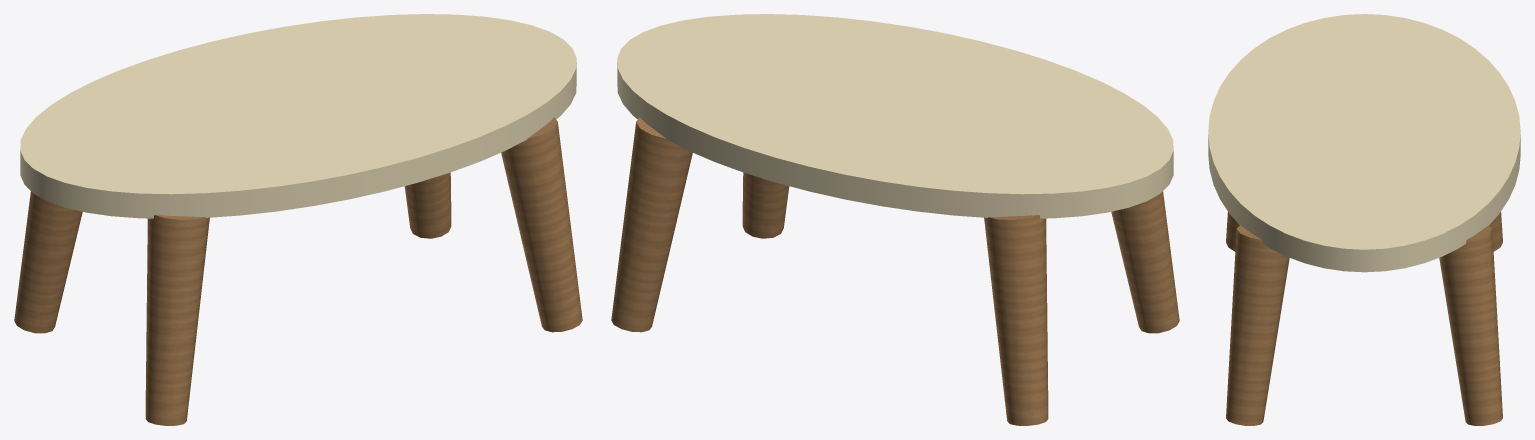
File: coffee_table_fjord-814adabc3a32.glb
3 views of the same model, side by side, from view 1: azimuth 30°, elevation 25°; view 2: azimuth 150°, elevation 25°; view 3: azimuth 270°, elevation 25° (orthographic). The views are drawn at different scales.
Visible parts, largest first — view 1: surface_ivory, surface_oak; view 2: surface_ivory, surface_oak; view 3: surface_ivory, surface_oak.
Part boxes in pixels (box(x1,y1,x2,y2)): surface_ivory: box(20, 14, 576, 218); surface_oak: box(14, 117, 582, 425); surface_ivory: box(617, 14, 1173, 218); surface_oak: box(611, 117, 1179, 425); surface_ivory: box(1208, 14, 1520, 272); surface_oak: box(1226, 212, 1502, 425).
Bounding box in the file's own units: 0.9849 × 0.3954 × 0.5518.
Materials: 2 (1 with a texture image).
